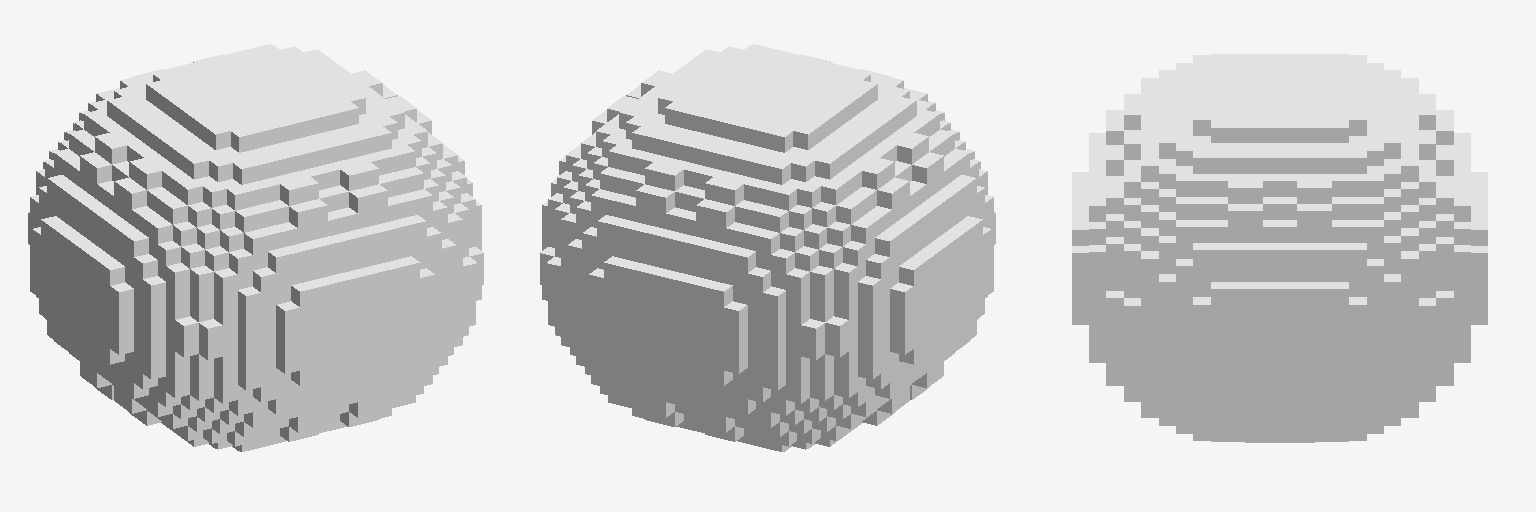
File: camucamu.obj
3 views of the same model, side by side, from view 1: azimuth 30°, elevation 25°; view 2: azimuth 150°, elevation 25°; view 3: azimuth 270°, elevation 25° (orthographic).
Parts seen in each view (by area): view 1: object 1; view 2: object 1; view 3: object 1.
Part boxes in pixels (left/top/right/bottom): object 1: left=28, top=44, right=483, bottom=451; object 1: left=540, top=44, right=995, bottom=451; object 1: left=1072, top=54, right=1487, bottom=442.
Bounding box in the file's own units: 2.4 × 2.1 × 2.4.